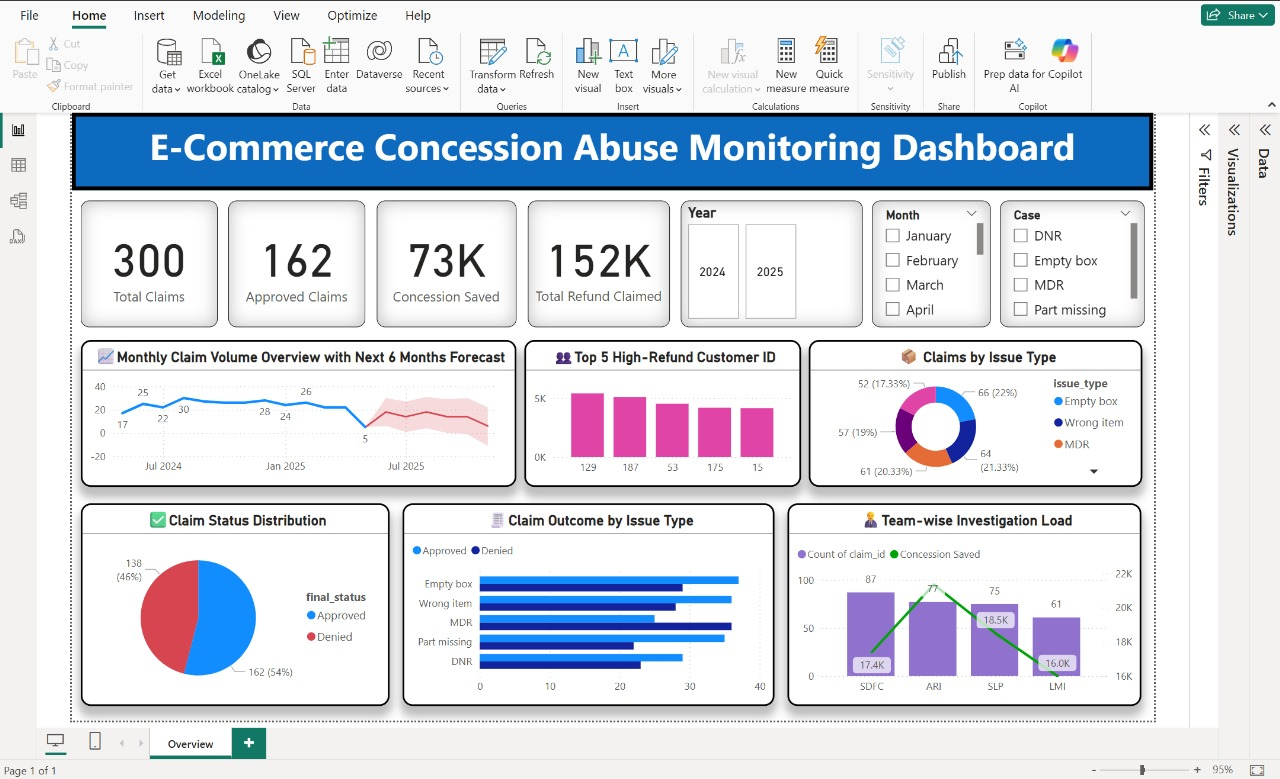

Layout of this report page (visuals, bound fields, positions):
{"tool":"powerbi","page":{"name":"Overview","canvas":[1280,720],"ordinal":0},"visuals":[{"type":"donutChart","title":"📦 Claims by Issue Type\t","fields":{"Y":["CountNonNull(Enhanced_View - All Data.issue_type)"],"Category":["Enhanced_View - All Data.issue_type"]},"box":[871.3,269,394.4,174.3],"z":0},{"type":"card","fields":{"Values":["Enhanced_View - All Data.TotalClaims"]},"box":[10.7,103.9,162,149.8],"z":1000},{"type":"card","fields":{"Values":["Enhanced_View - All Data.ApprovedClaims"]},"box":[185,103.9,162,149.8],"z":2000},{"type":"card","fields":{"Values":["Enhanced_View - All Data.ConcessionSaved"]},"box":[360.8,103.9,165.1,149.8],"z":3000},{"type":"card","fields":{"Values":["Enhanced_View - All Data.TotalRefundClaimed"]},"box":[539.6,103.9,168.2,149.8],"z":4000},{"type":"lineChart","title":"📈Monthly Claim Volume Overview with Next 6 Months Forecast","fields":{"Category":["Enhanced_View - All Data.claim_date.Variation.Date Hierarchy.Year","Enhanced_View - All Data.claim_date.Variation.Date Hierarchy.Month"],"Y":["CountNonNull(Enhanced_View - All Data.claim_id)"]},"box":[10.7,269,515.2,174.3],"z":5000},{"type":"clusteredBarChart","title":"🧾Claim Outcome by Issue Type","fields":{"Category":["Enhanced_View - All Data.issue_type"],"Series":["Enhanced_View - All Data.final_status"],"Y":["CountNonNull(Enhanced_View - All Data.claim_id)"]},"box":[391.3,463.2,440.3,240],"z":6000},{"type":"columnChart","title":"👥Top 5 High-Refund Customer ID","fields":{"Category":["Enhanced_View - All Data.customer_id"],"Y":["Sum(Enhanced_View - All Data.Refund amount)"]},"box":[535,269,327.1,174.3],"z":7000},{"type":"lineClusteredColumnComboChart","title":"👨💼Team-wise Investigation Load","fields":{"Category":["Enhanced_View - All Data.responsible_team"],"Y":["CountNonNull(Enhanced_View - All Data.claim_id)"],"Y2":["Enhanced_View - All Data.ConcessionSaved"]},"box":[846.9,463.2,418.9,240],"z":8000},{"type":"pieChart","title":"✅Claim Status Distribution","fields":{"Y":["CountNonNull(Enhanced_View - All Data.final_status)"],"Category":["Enhanced_View - All Data.final_status"]},"box":[10.7,463.2,365.4,240],"z":9000},{"type":"textbox","title":"E-Commerce Concession Abuse Monitoring Dashboard","box":[0,0,1279.5,91.7],"z":10000},{"type":"slicer","fields":{"Values":["Enhanced_View - All Data.claim_date.Variation.Date Hierarchy.Month"]},"box":[946.2,103.9,140.6,149.8],"z":11000},{"type":"advancedSlicerVisual","fields":{"Values":["Enhanced_View - All Data.claim_date.Variation.Date Hierarchy.Year"]},"box":[720,103.9,215.5,149.8],"z":12000},{"type":"slicer","fields":{"Values":["Enhanced_View - All Data.issue_type"]},"box":[1097.6,103.9,171.2,149.8],"z":13000}]}

Visuals, with their boxes on the page's 1280x720 design canvas (x1, y1, x2, y2). These are canvas units, not pixel positions in the 1280x779 screenshot, which may show the page scaled, cropped or inside an application window:
"📦 Claims by Issue Type	" donutChart: (871,269,1266,443)
card - Enhanced_View - All Data.TotalClaims: (11,104,173,254)
card - Enhanced_View - All Data.ApprovedClaims: (185,104,347,254)
card - Enhanced_View - All Data.ConcessionSaved: (361,104,526,254)
card - Enhanced_View - All Data.TotalRefundClaimed: (540,104,708,254)
"📈Monthly Claim Volume Overview with Next 6 Months Forecast" lineChart: (11,269,526,443)
"🧾Claim Outcome by Issue Type" clusteredBarChart: (391,463,832,703)
"👥Top 5 High-Refund Customer ID" columnChart: (535,269,862,443)
"👨💼Team-wise Investigation Load" lineClusteredColumnComboChart: (847,463,1266,703)
"✅Claim Status Distribution" pieChart: (11,463,376,703)
"E-Commerce Concession Abuse Monitoring Dashboard" textbox: (0,0,1280,92)
slicer - Enhanced_View - All Data.claim_date.Variation.Date Hierarchy.Month: (946,104,1087,254)
advancedSlicerVisual - Enhanced_View - All Data.claim_date.Variation.Date Hierarchy.Year: (720,104,936,254)
slicer - Enhanced_View - All Data.issue_type: (1098,104,1269,254)
